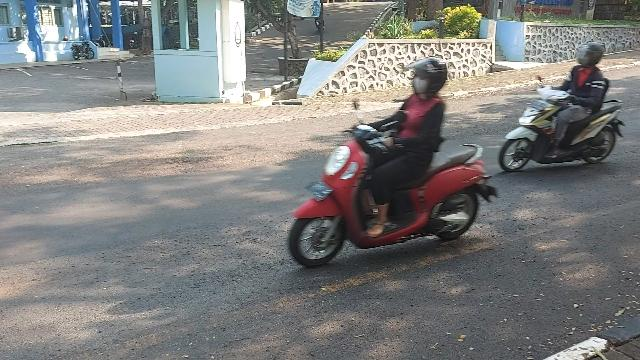helm: (407, 59, 448, 96), (577, 45, 604, 68)
motor: (289, 100, 500, 268), (500, 78, 626, 174)
